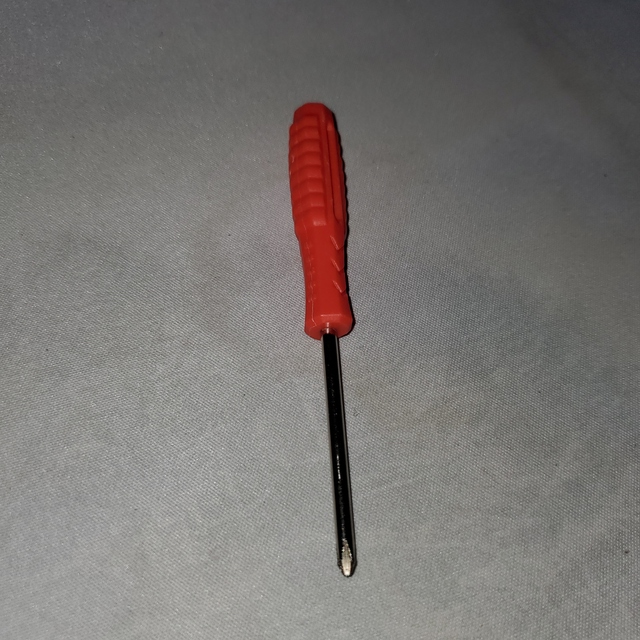screwdriver: (276, 95, 387, 590)
